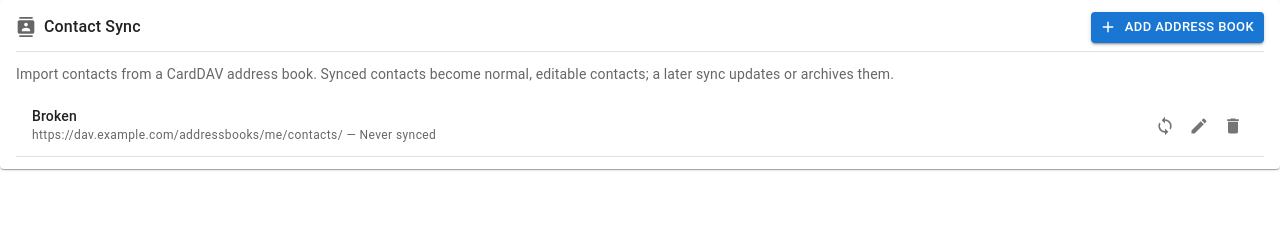
Test case: a sync failure surfaces the error instead of throwing
Expected: the text "Broken" is shown, [32,106,77,126]
Click the button named "sync now" at (1165, 126), box [1150,111,1180,141]
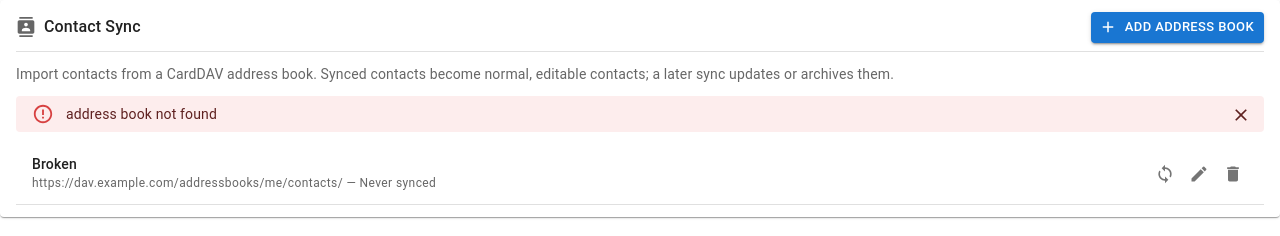
Expected: the text "address book not found" is shown, [66,106,217,122]
